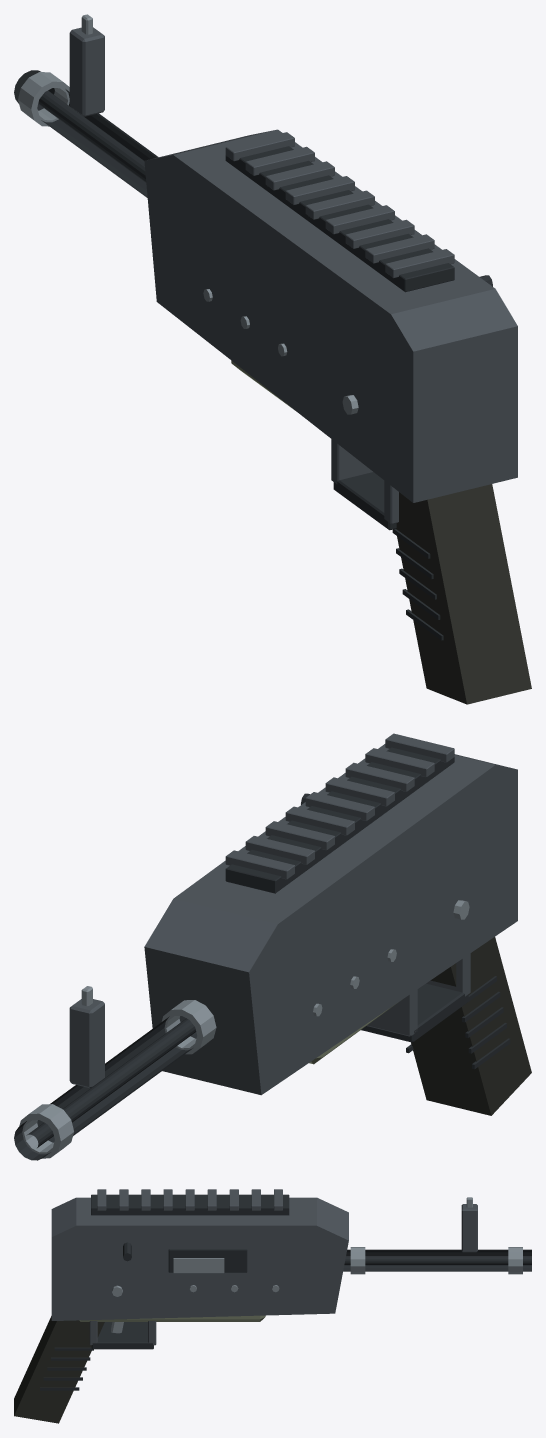
Rendered from weapon_reed9.glb.
3 views of the same model, one above another, from view 1: azimuth 30°, elevation 25°; view 2: azimuth 150°, elevation 25°; view 3: azimuth 270°, elevation 25° (orthographic). The views are drawn at different scales.
Visible parts, largest first — view 1: Geometry_weapon_reed9; view 2: Geometry_weapon_reed9; view 3: Geometry_weapon_reed9.
Boxes of the visible parts, x1,y1,x2,y2 form: Geometry_weapon_reed9: [14, 14, 531, 704]; Geometry_weapon_reed9: [14, 733, 531, 1160]; Geometry_weapon_reed9: [14, 1189, 531, 1423].
Size of the model in its own units: 0.1051 by 0.262 by 0.566.
